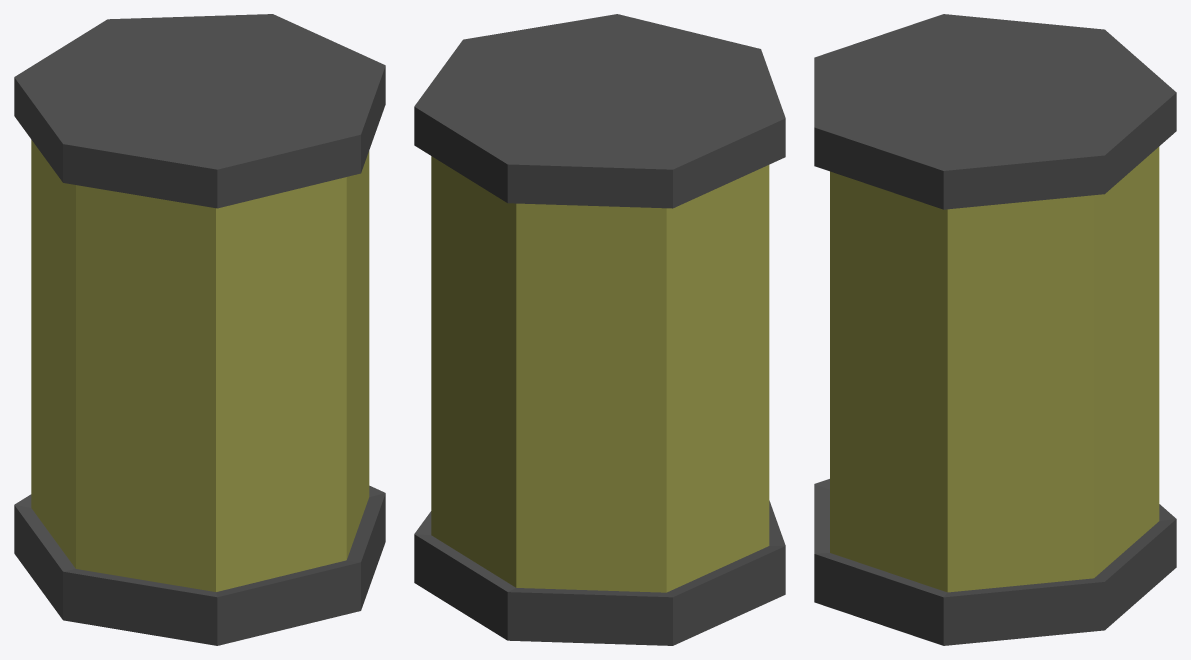
The model's file is Barrel2.fbx.
3 renders of one model, left to right at view 1: azimuth 30°, elevation 25°; view 2: azimuth 150°, elevation 25°; view 3: azimuth 270°, elevation 25°, orthographic.
Parts seen in each view (by area): view 1: Cylinder.009; view 2: Cylinder.009; view 3: Cylinder.009.
Part boxes in pixels (left/top/right/bottom): Cylinder.009: left=14, top=14, right=385, bottom=645; Cylinder.009: left=414, top=14, right=785, bottom=645; Cylinder.009: left=814, top=14, right=1176, bottom=645.
Bounding box in the file's own units: 214 × 303 × 209.
